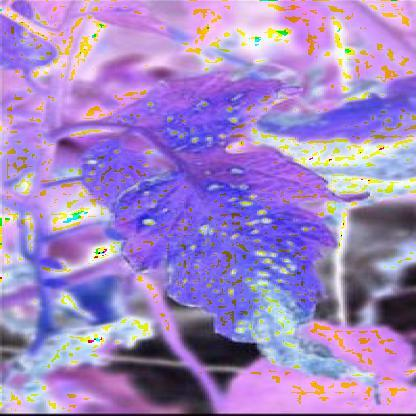Tomato Septoria leaf spot: (87, 80, 382, 382)
